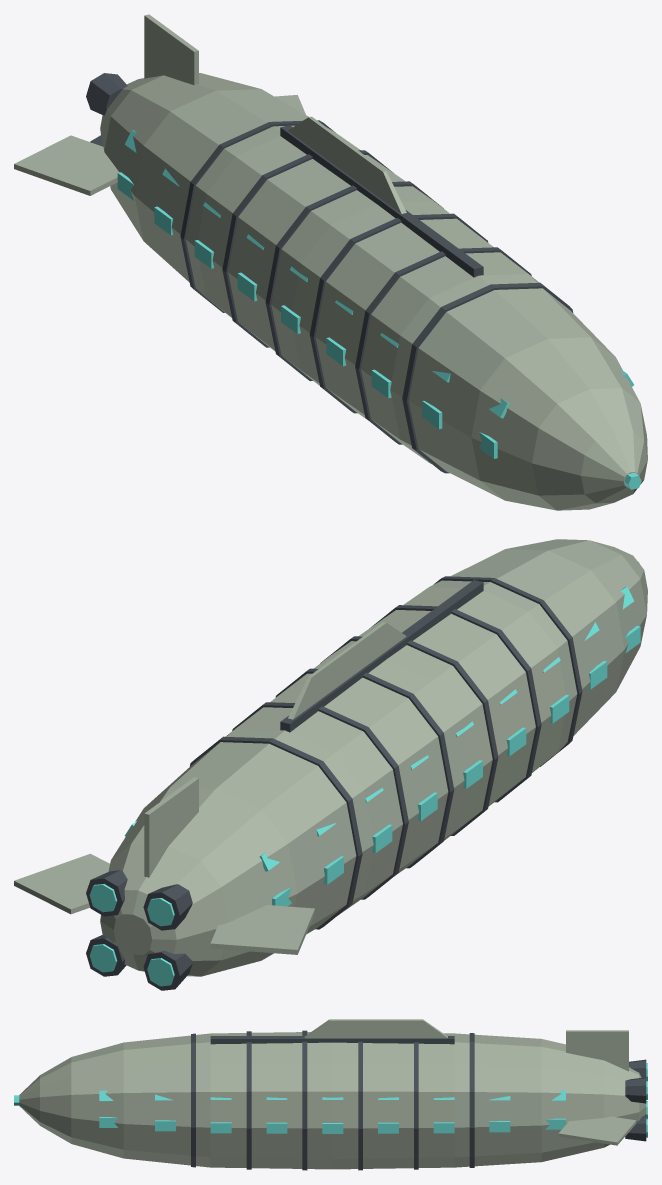
File: SH_Cigar_01.glb
3 renders of one model, top to bottom at view 1: azimuth 30°, elevation 25°; view 2: azimuth 150°, elevation 25°; view 3: azimuth 270°, elevation 25°, orthographic. The views are drawn at different scales.
Visible parts, largest first — view 1: SH_Cigar_01; view 2: SH_Cigar_01; view 3: SH_Cigar_01.
Boxes of the visible parts, x1,y1,x2,y2 form: SH_Cigar_01: (14, 14, 647, 510); SH_Cigar_01: (14, 539, 647, 990); SH_Cigar_01: (14, 1019, 647, 1170).
Size of the model in its own units: 5.92 by 4.48 by 18.2.
Materials: 1 (1 with a texture image).
